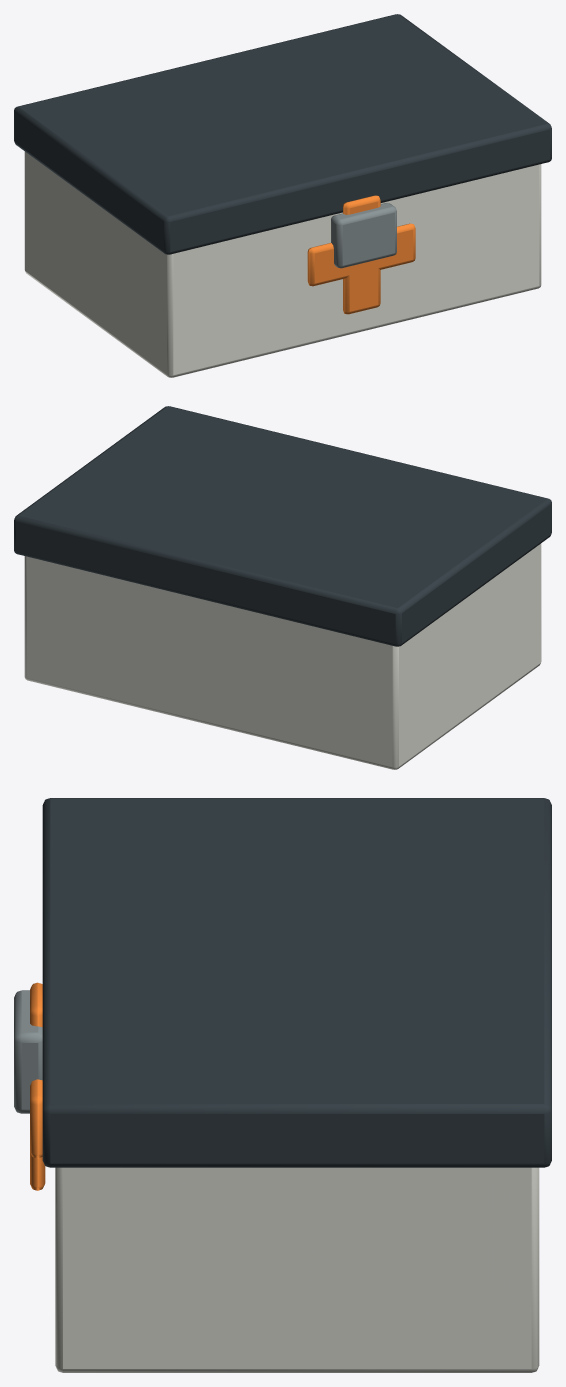
The model's file is nord01-medical_case-lod0.glb.
The picture shows the model from 3 angles, top to bottom: view 1: azimuth 30°, elevation 25°; view 2: azimuth 150°, elevation 25°; view 3: azimuth 270°, elevation 25°; orthographic projection. The views are drawn at different scales.
Visible parts, largest first — view 1: static; view 2: static; view 3: static.
Boxes of the visible parts, x1,y1,x2,y2 form: static: [14, 14, 551, 377]; static: [14, 406, 551, 769]; static: [14, 798, 551, 1372].
Bounding box in the file's own units: 0.58 × 0.2375 × 0.4225.
